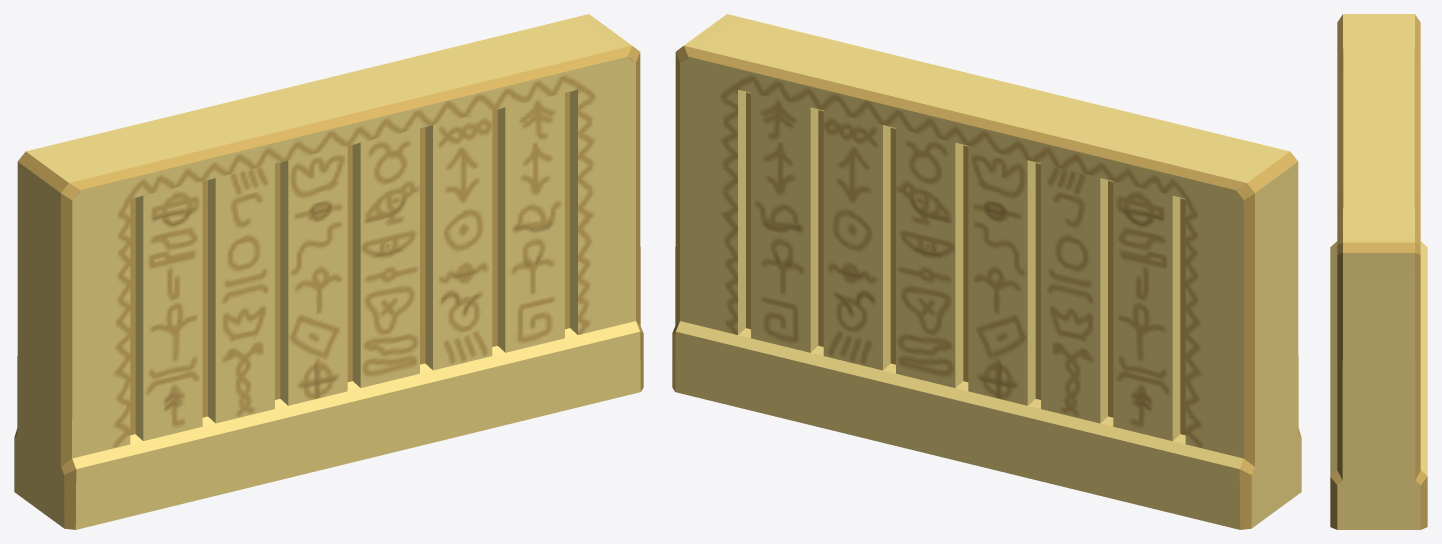
The model's file is Egypt_Wall.fbx.
3 renders of one model, left to right at view 1: azimuth 30°, elevation 25°; view 2: azimuth 150°, elevation 25°; view 3: azimuth 270°, elevation 25°, orthographic. The views are drawn at different scales.
Parts seen in each view (by area): view 1: Egypt_Wall; view 2: Egypt_Wall; view 3: Egypt_Wall.
Boxes of the visible parts, box(x1,y1,x2,y2) form: Egypt_Wall: box(14, 14, 643, 529); Egypt_Wall: box(672, 14, 1301, 529); Egypt_Wall: box(1330, 14, 1427, 529).
Size of the model in its own units: 28 by 90 by 160.
